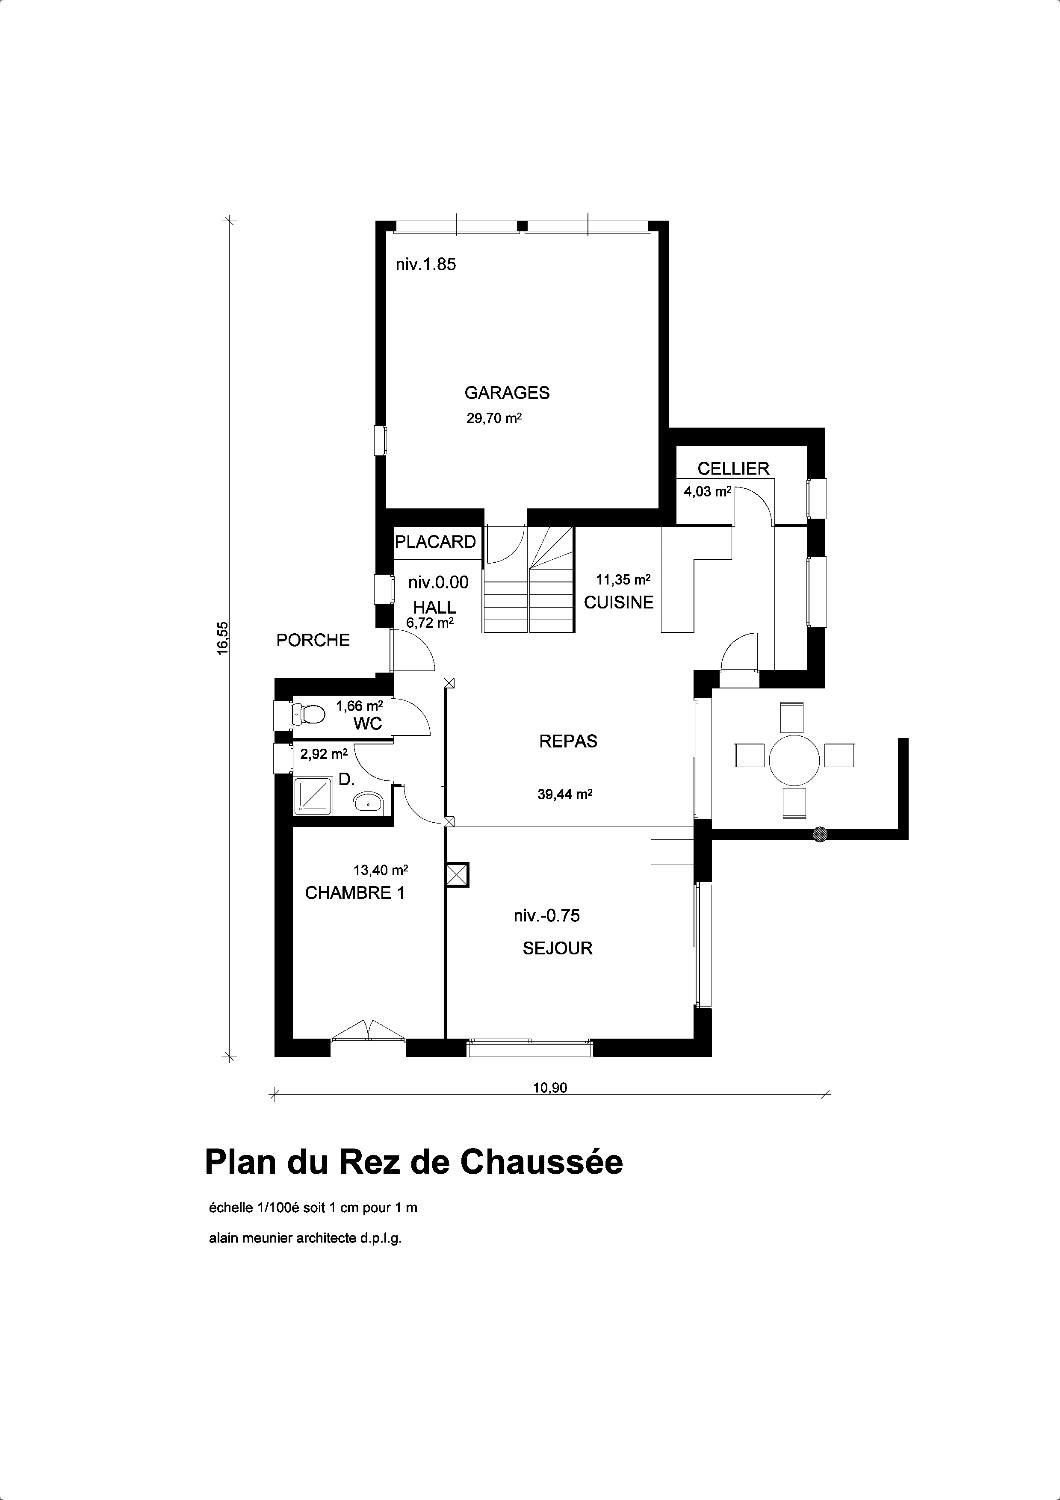ceramic sink: (353, 791, 384, 817)
door: (719, 633, 759, 690), (387, 628, 435, 674), (484, 523, 528, 565), (731, 486, 775, 528), (391, 695, 431, 739), (353, 741, 393, 784)
sliding door: (466, 1036, 594, 1058), (691, 881, 712, 1011)
square bath tab: (293, 776, 334, 817)
toilet: (291, 702, 326, 726)
window: (329, 1019, 407, 1057), (805, 556, 827, 628), (805, 478, 827, 519), (273, 700, 294, 733), (273, 742, 294, 775), (374, 575, 396, 606), (374, 425, 387, 456)
